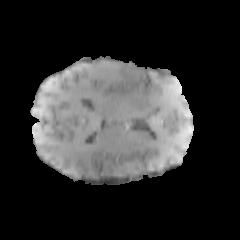glioma: (71, 60, 156, 102)
